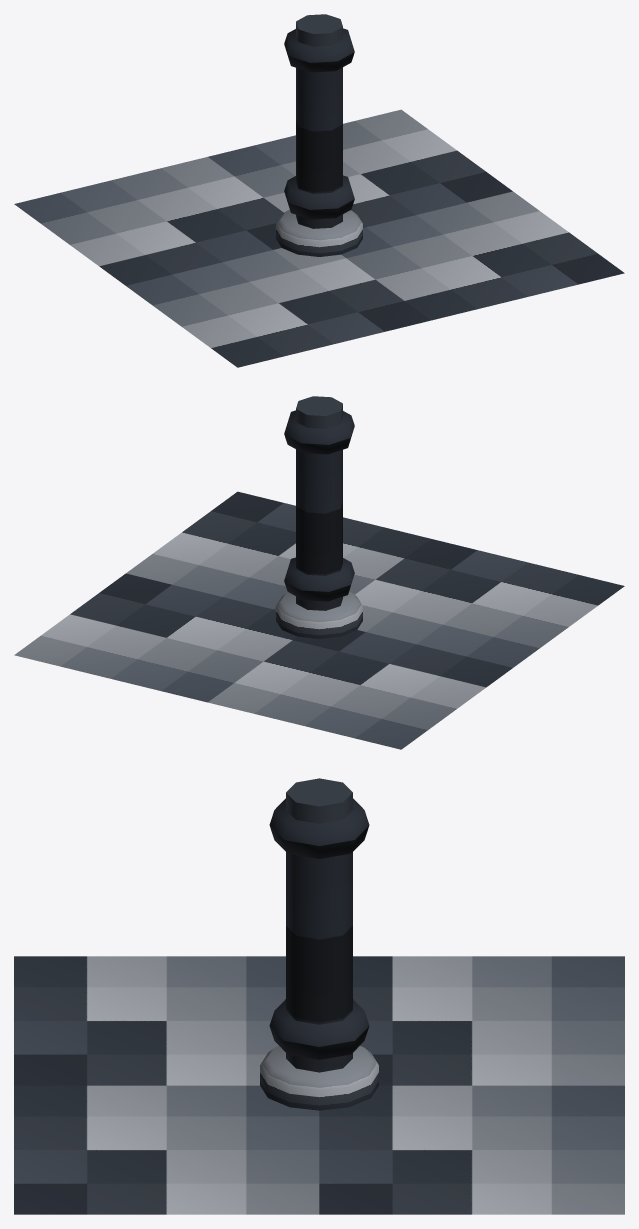
Rendered from hub_platform.glb.
3 renders of one model, top to bottom at view 1: azimuth 30°, elevation 25°; view 2: azimuth 150°, elevation 25°; view 3: azimuth 270°, elevation 25°, orthographic. The views are drawn at different scales.
Parts seen in each view (by area): view 1: template-floor-big; view 2: template-floor-big; view 3: template-floor-big.
Boxes of the visible parts, box(x1,y1,x2,y2) form: template-floor-big: box(14, 14, 624, 367); template-floor-big: box(14, 396, 624, 749); template-floor-big: box(14, 778, 624, 1214).
Size of the model in its own units: 8 by 4.23 by 8.
1 material, 1 textured.
